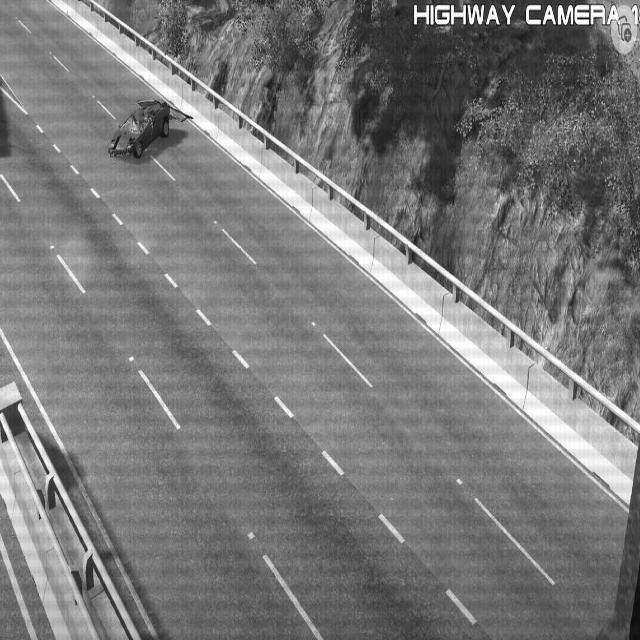accident: (107, 84, 173, 165)
